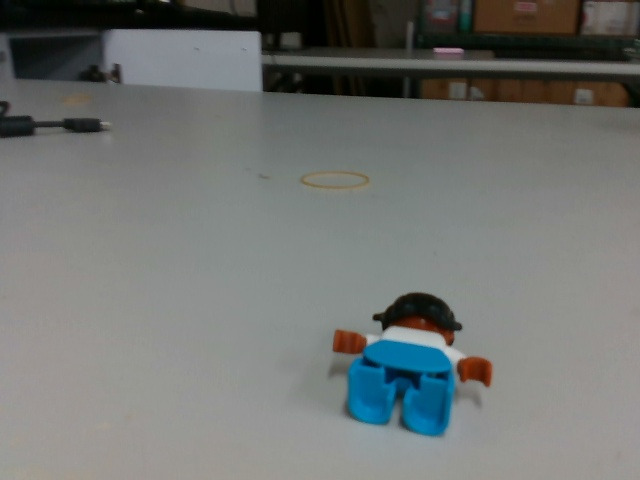people: (327, 288, 497, 437)
